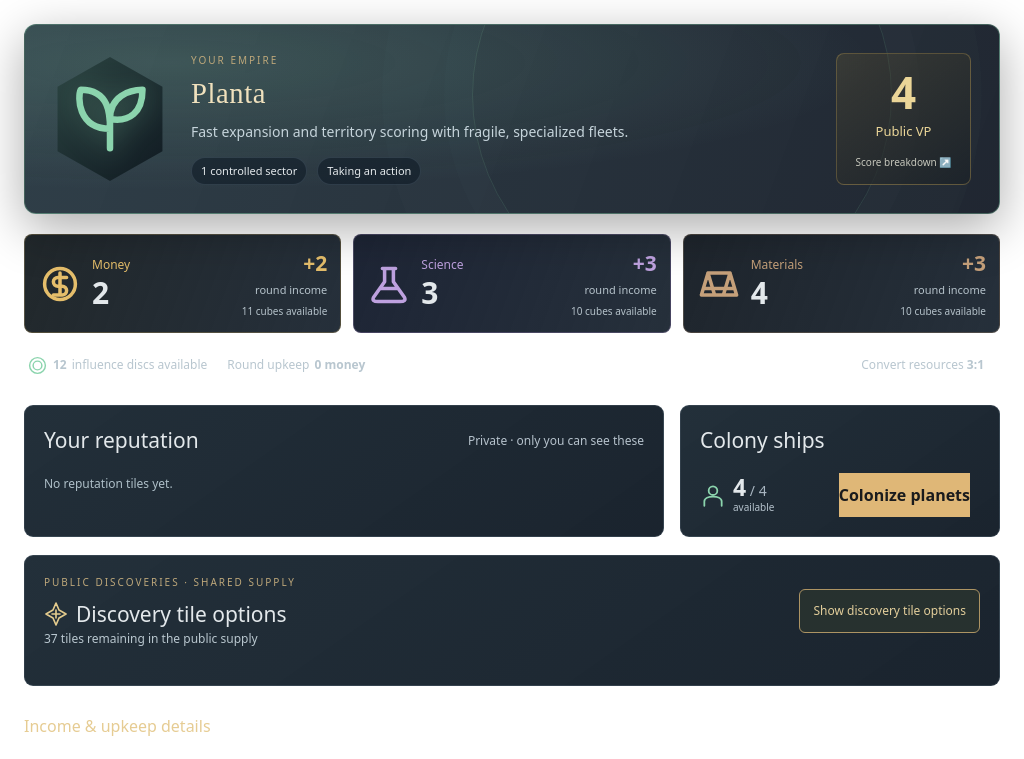
Scenario: shows the Standard inventory when only public discovery choices are enabled
Click the button "Show discovery tile options" at x=890, y=611, box top-left (799, 589), bottom-right (980, 633)
(page scrolled)
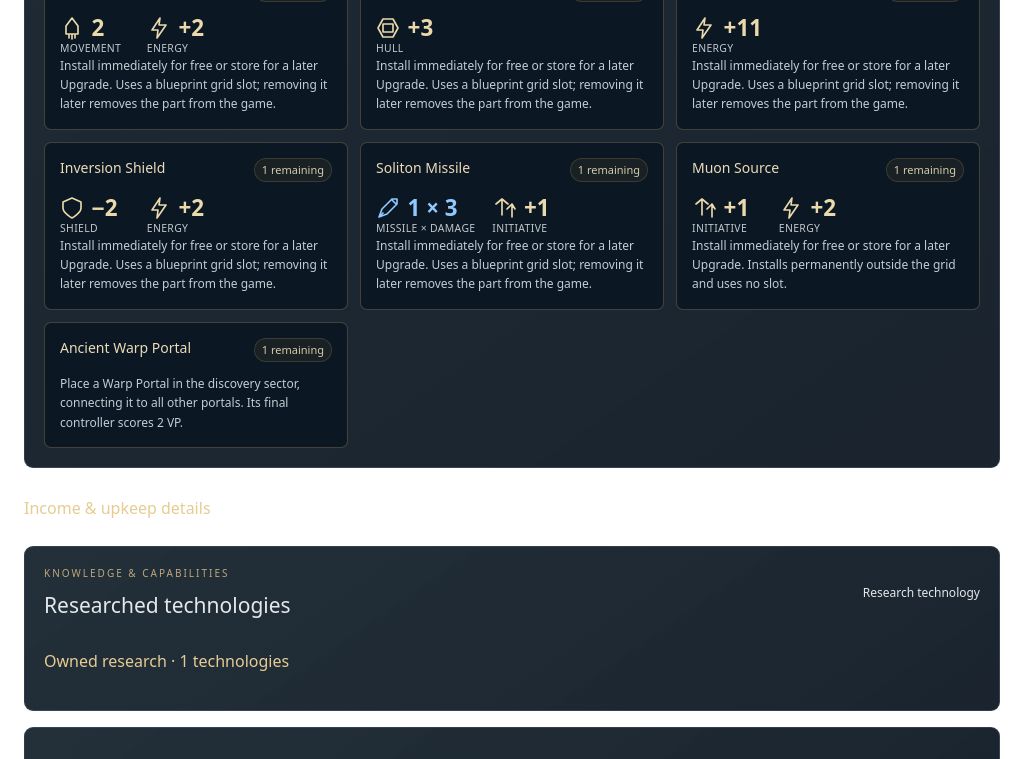
Check: the element "Ancient Warp Portal" is shown, box top-left (44, 322), bottom-right (348, 448)
